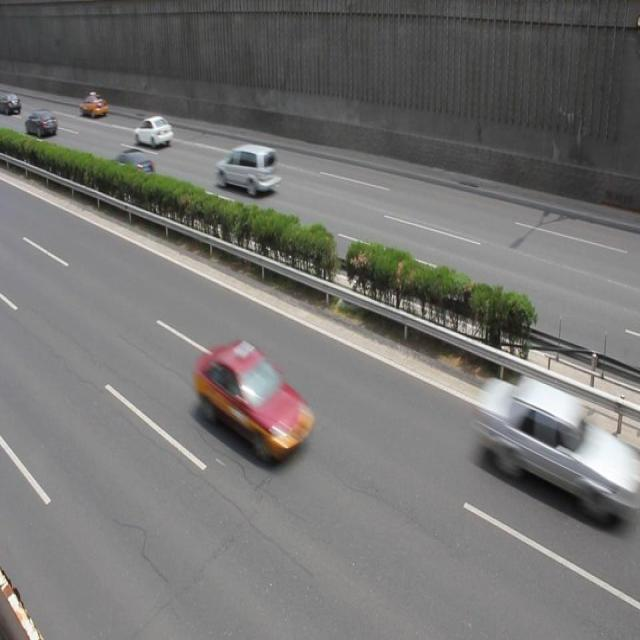car: (469, 374, 640, 516), (193, 335, 315, 464), (105, 148, 156, 194), (133, 116, 171, 149), (26, 108, 58, 140), (80, 91, 109, 119)
truck: (214, 144, 279, 195)
